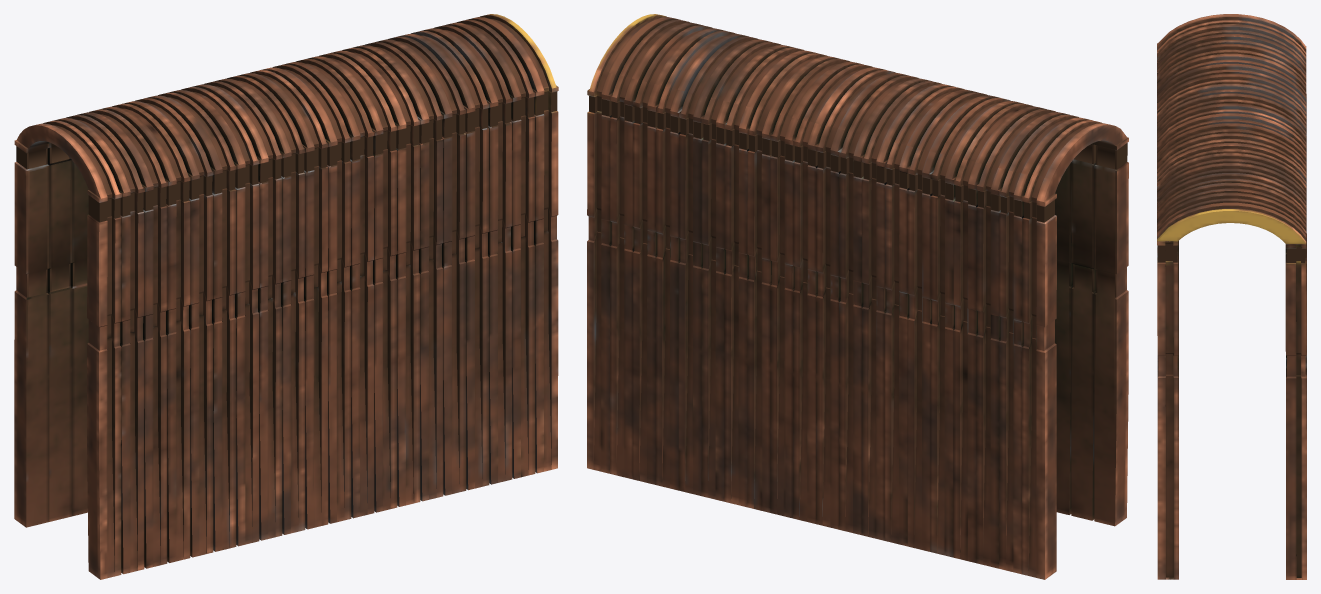
Rendered from fabryka.fbx.
3 renders of one model, left to right at view 1: azimuth 30°, elevation 25°; view 2: azimuth 150°, elevation 25°; view 3: azimuth 270°, elevation 25°, orthographic. The views are drawn at different scales.
Visible parts, largest first — view 1: Cube; view 2: Cube; view 3: Cube.
Part boxes in pixels (bbox=[...]): Cube: bbox=[14, 14, 558, 579]; Cube: bbox=[587, 14, 1128, 579]; Cube: bbox=[1157, 14, 1306, 579].
Size of the model in its own units: 24848 by 21484 by 7923.
